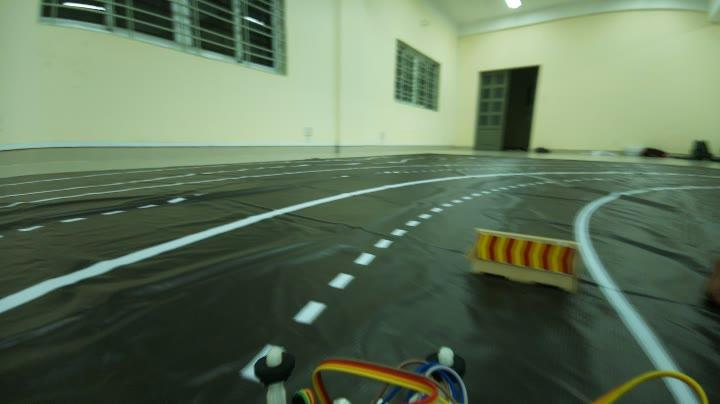roadblock: (463, 225, 578, 290)
